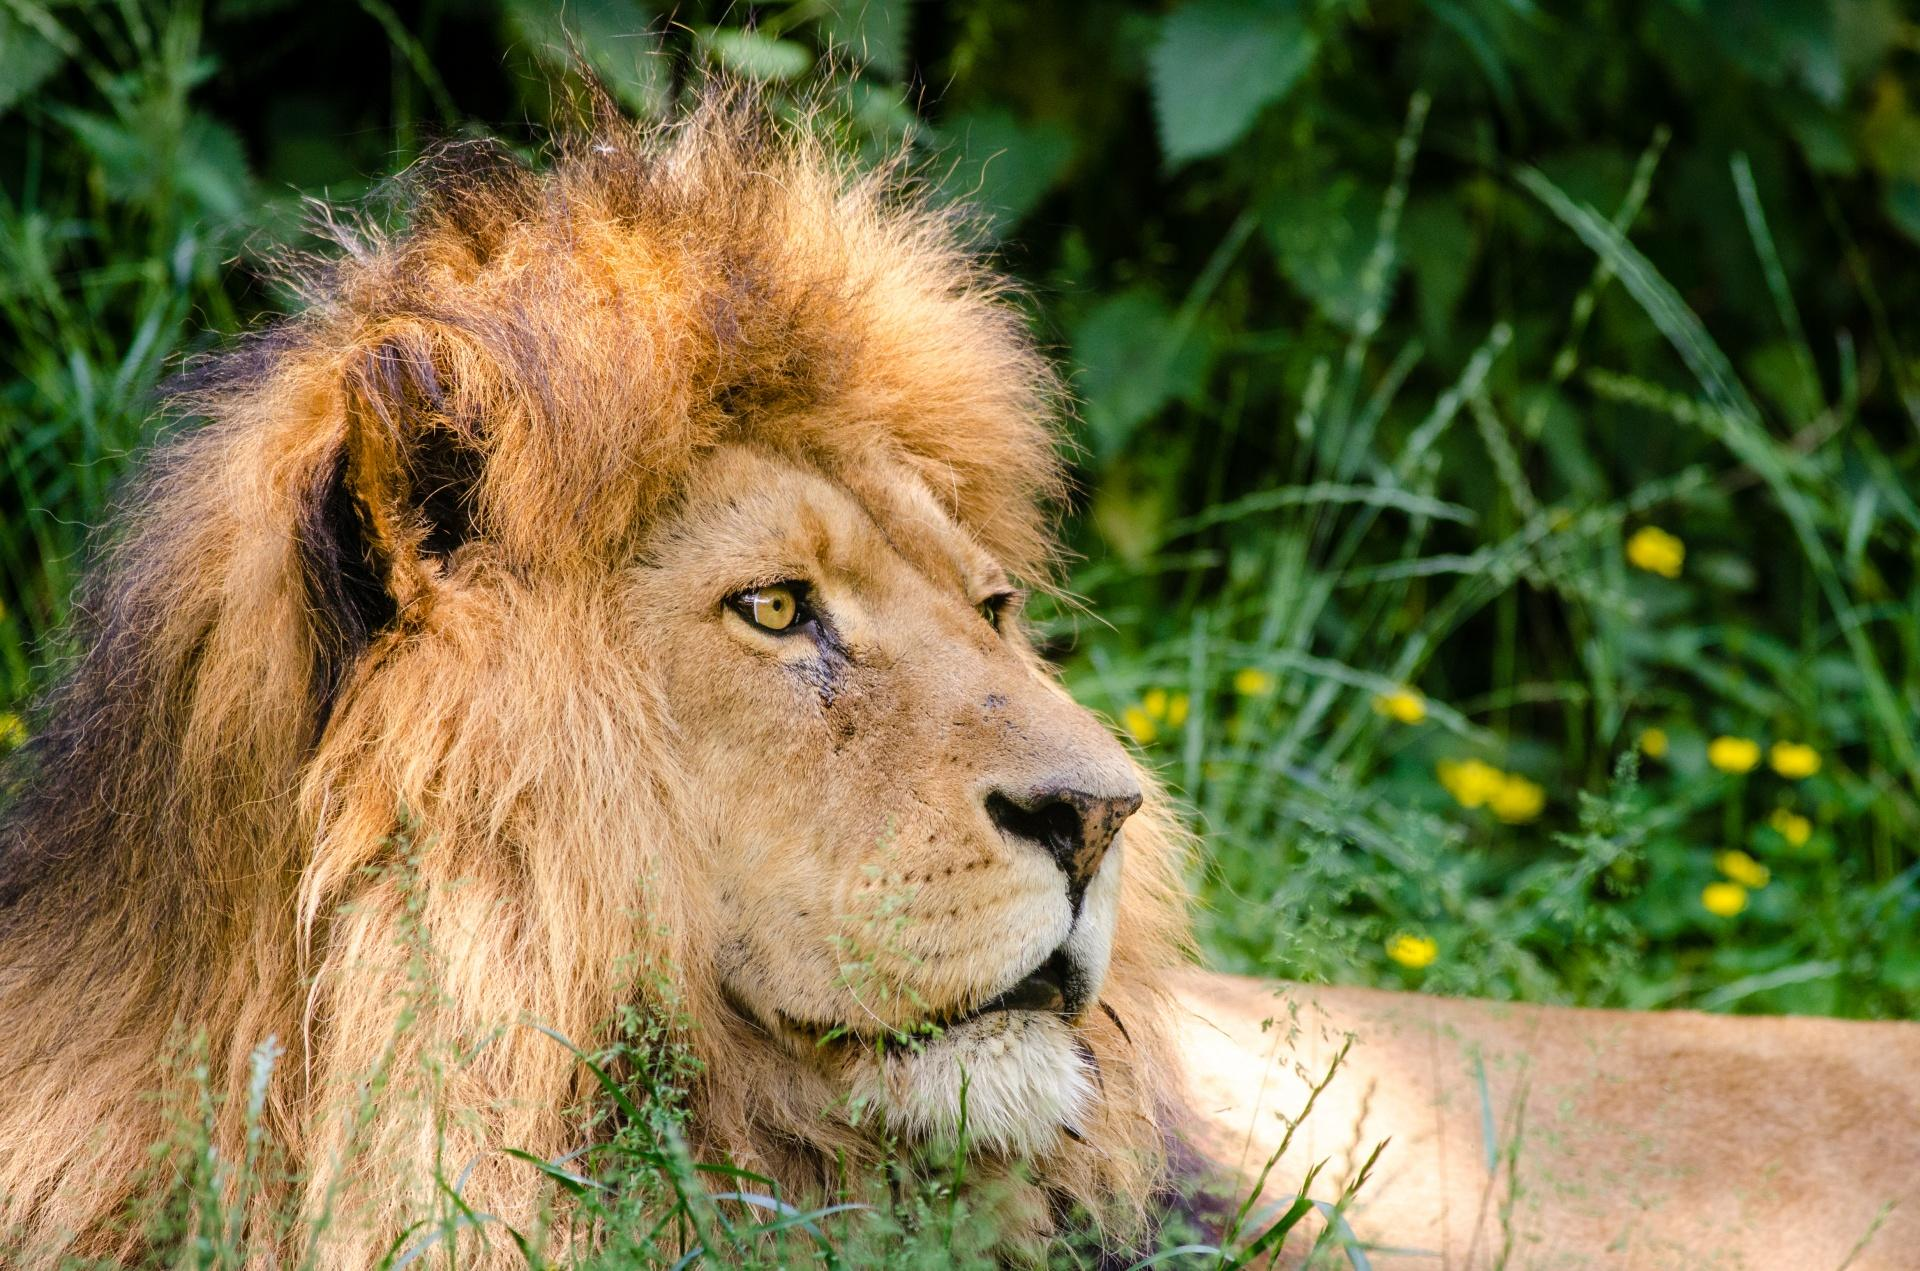lions: (60, 31, 1678, 1143)
